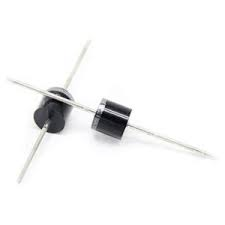diode: (82, 91, 164, 161)
